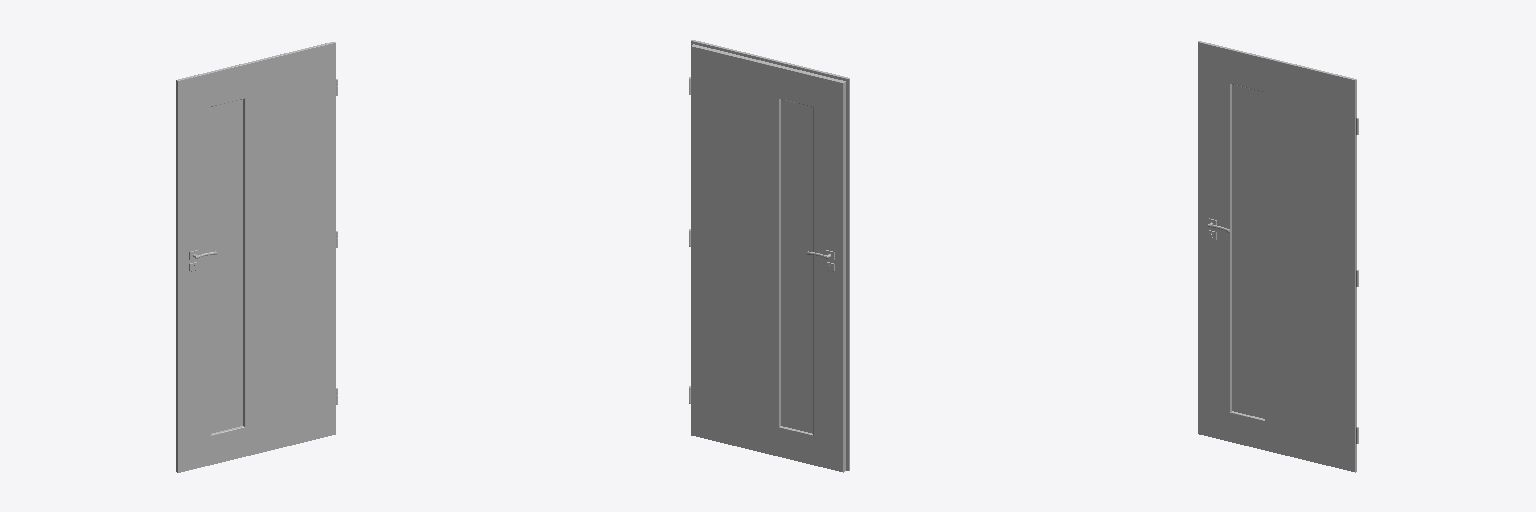
3 views of the same model, side by side, from view 1: azimuth 30°, elevation 25°; view 2: azimuth 150°, elevation 25°; view 3: azimuth 330°, elevation 25° (orthographic).
Visible parts, largest first — view 1: dvere_Cube.001; view 2: dvere_Cube.001; view 3: dvere_Cube.001.
Boxes of the visible parts, x1,y1,x2,y2 form: dvere_Cube.001: [176, 42, 337, 472]; dvere_Cube.001: [689, 40, 849, 472]; dvere_Cube.001: [1198, 41, 1358, 472].
Size of the model in its own units: 0.8688 by 2.03 by 0.1167.